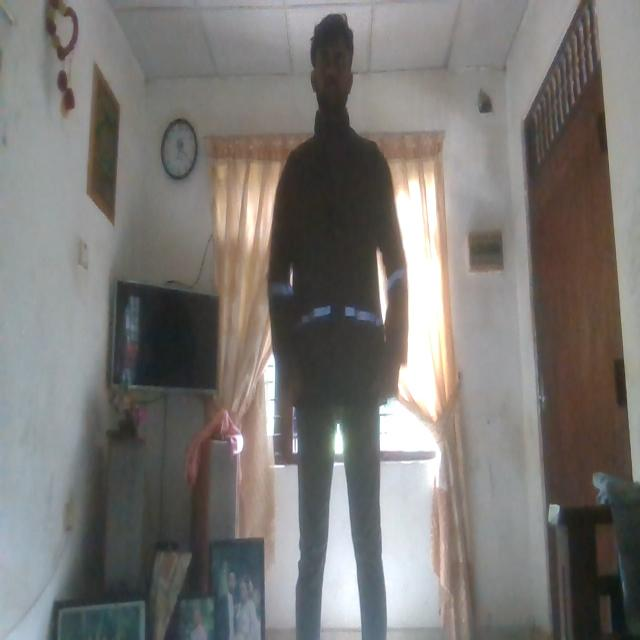Helmet_Wearer: (268, 109, 412, 424)
Person: (270, 14, 410, 640)
